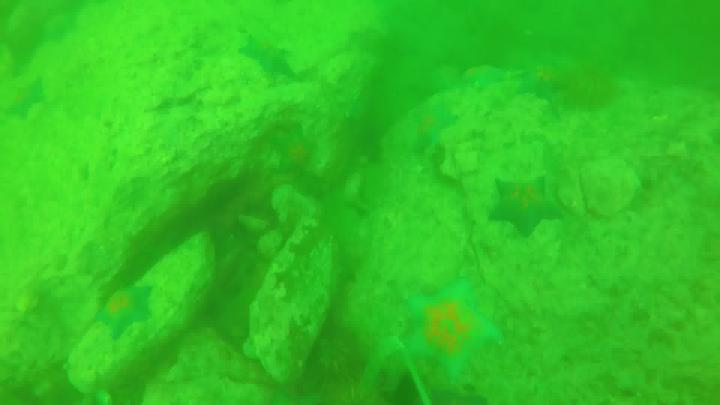holothurian: (313, 329, 362, 380)
starfish: (412, 281, 504, 385), (490, 175, 566, 238), (97, 285, 151, 342), (243, 38, 298, 79), (415, 102, 452, 160), (11, 78, 44, 114), (525, 69, 558, 104), (461, 66, 517, 86)
